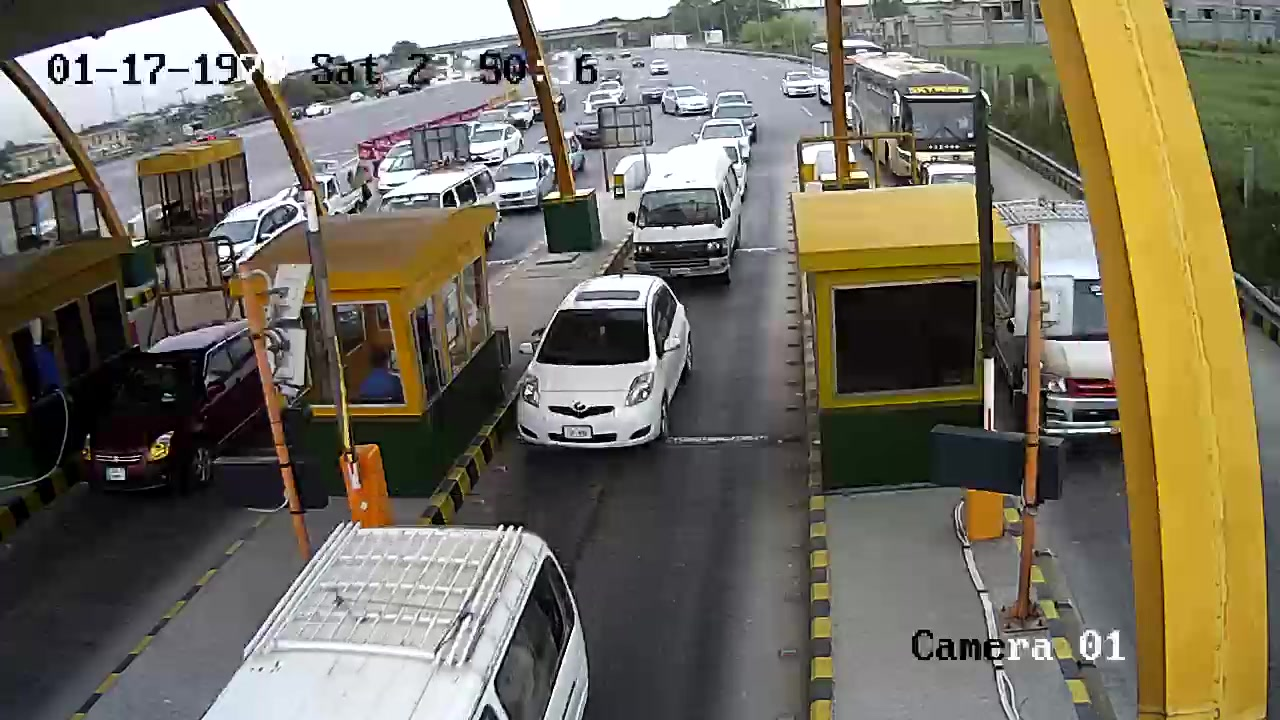F1: (503, 271, 701, 465)
F2: (620, 143, 744, 279)
